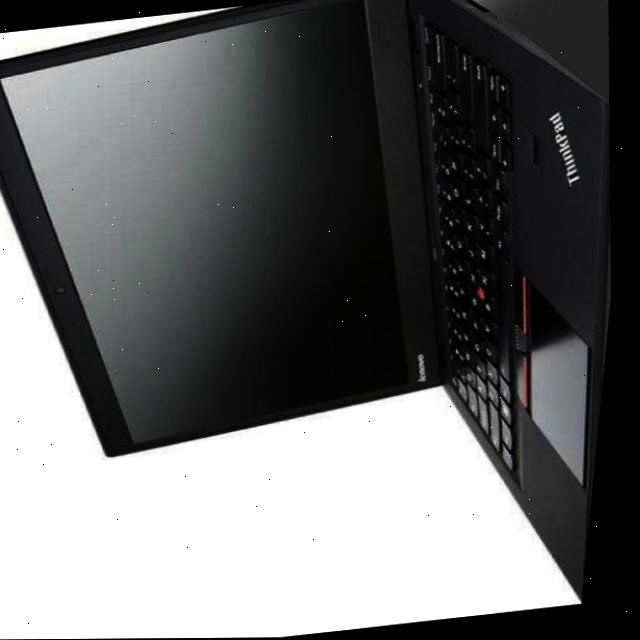laptop: (0, 0, 640, 620)
